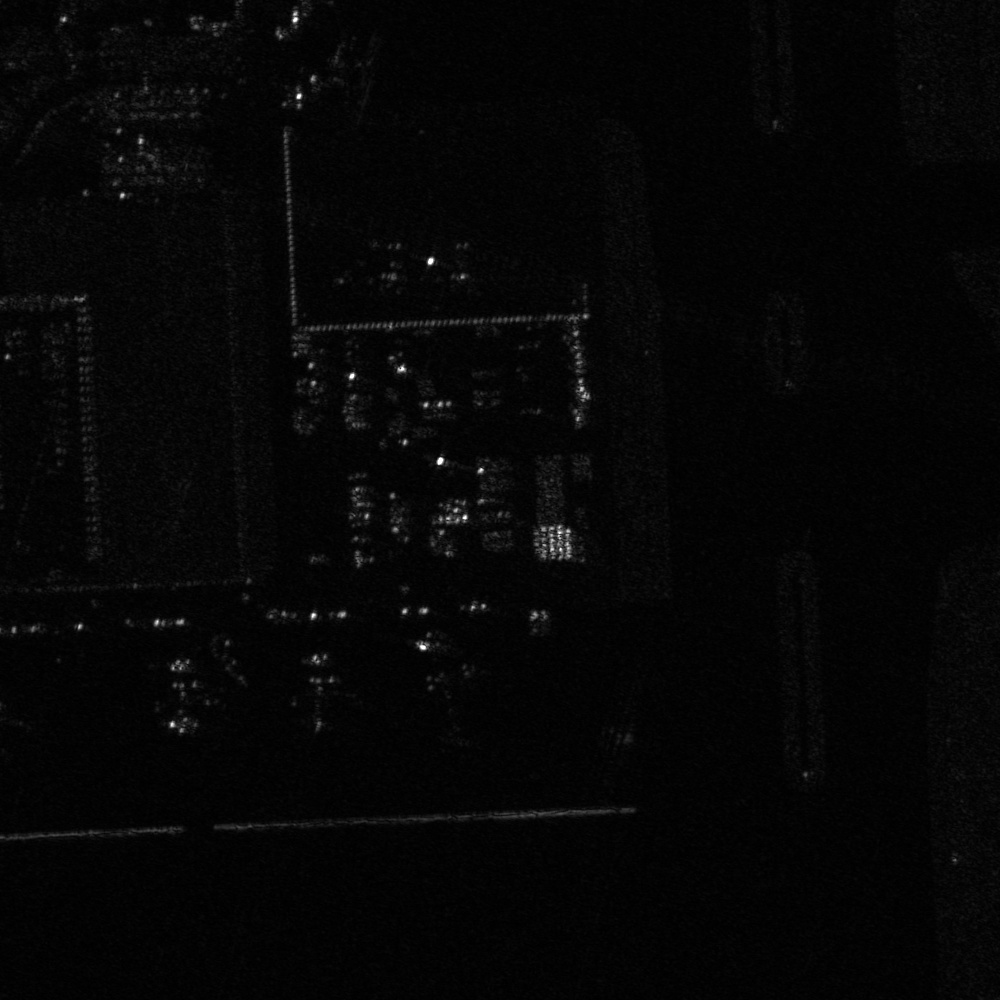ARJ21: (368, 232, 418, 295)
Boeing737: (268, 641, 371, 740), (406, 626, 486, 737)
other: (145, 651, 228, 741), (303, 33, 385, 101), (434, 233, 494, 295)
